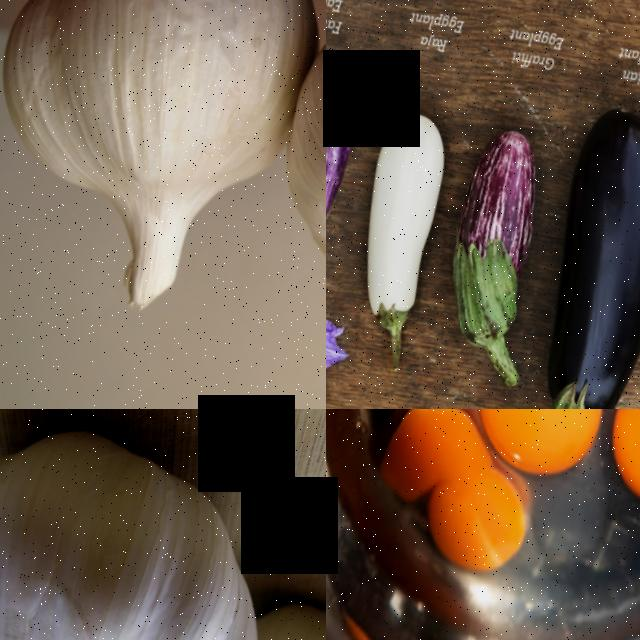egg_: (455, 409, 616, 495), (587, 409, 640, 533)
eggplant: (505, 100, 640, 409), (330, 102, 465, 346), (428, 128, 554, 333), (326, 83, 366, 255)
garlic: (0, 0, 326, 286), (0, 409, 274, 640), (244, 0, 326, 341)
